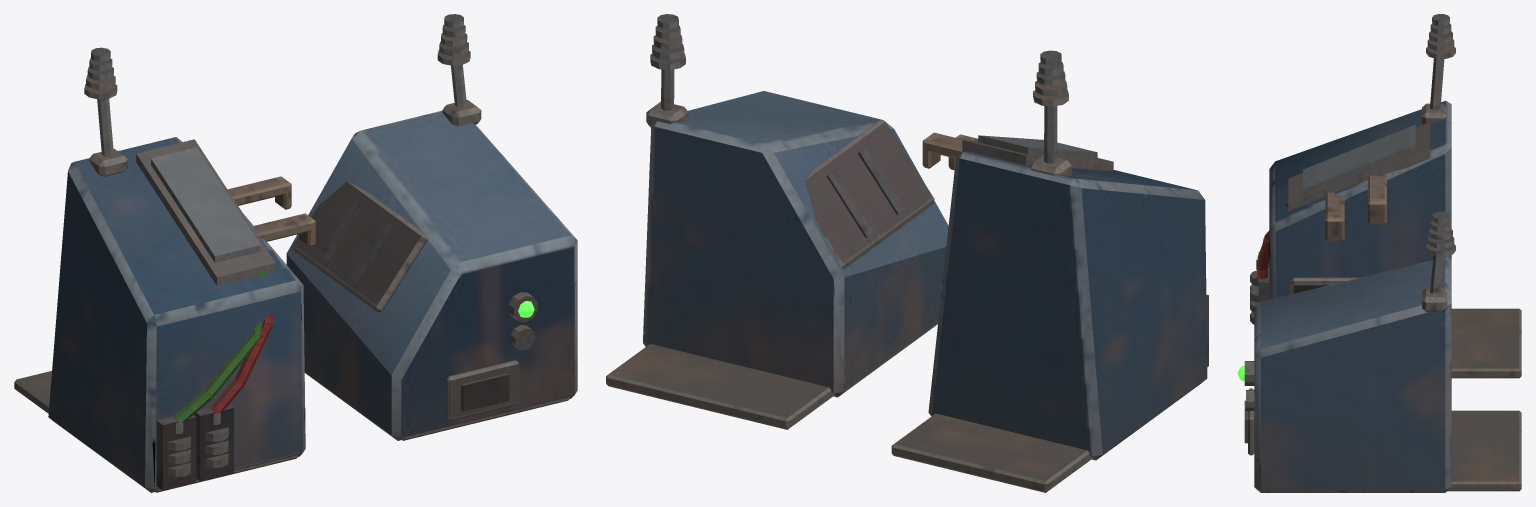
File: power-switch.glb
3 views of the same model, side by side, from view 1: azimuth 30°, elevation 25°; view 2: azimuth 150°, elevation 25°; view 3: azimuth 270°, elevation 25° (orthographic). The views are drawn at different scales.
Visible parts, largest first — view 1: body, anim_switch; view 2: body, anim_switch; view 3: body, anim_switch.
Part boxes in pixels (left/top/right/bottom): body: left=14, top=14, right=577, bottom=492; anim_switch: left=136, top=139, right=315, bottom=285; body: left=606, top=14, right=1208, bottom=492; anim_switch: left=922, top=132, right=1113, bottom=171; body: left=1237, top=14, right=1521, bottom=492; anim_switch: left=1288, top=122, right=1430, bottom=241.
Size of the model in its own units: 2.03 by 1.65 by 1.34.
2 materials, 2 textured.
